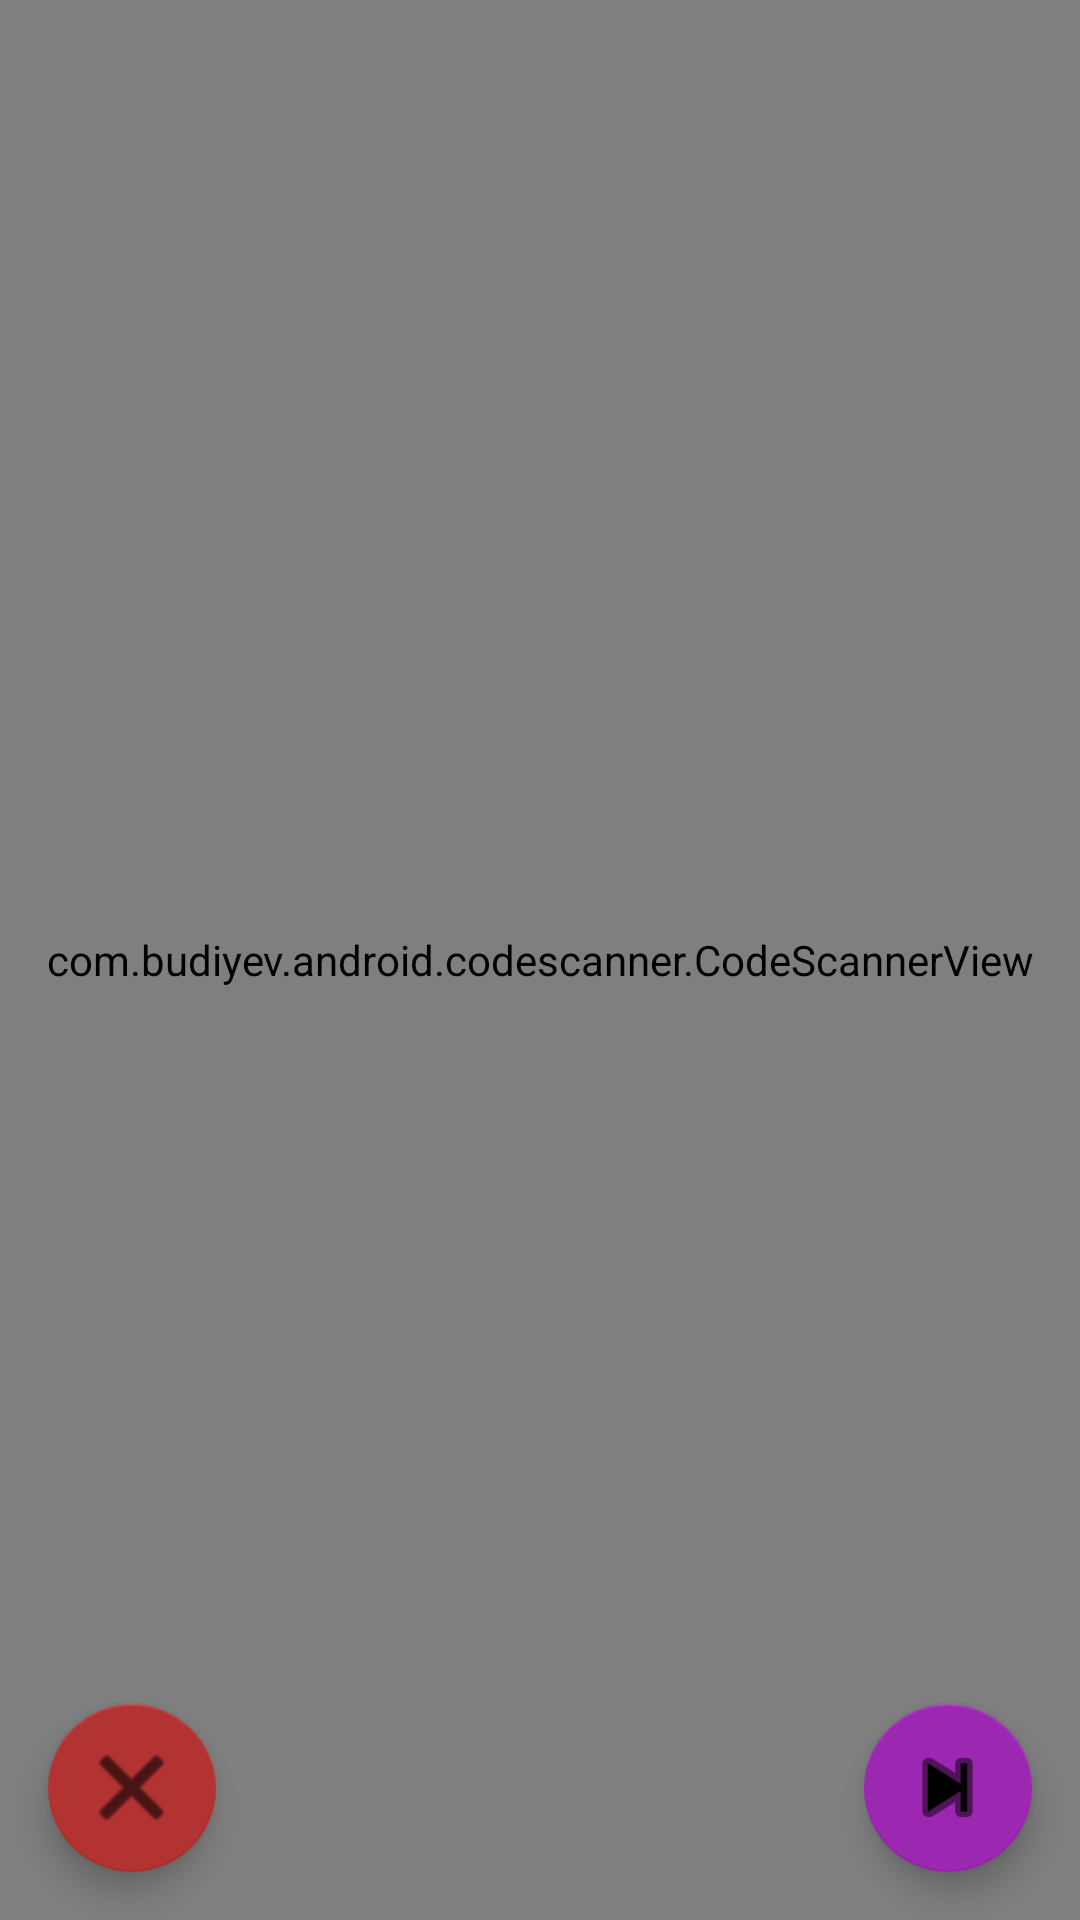

Icons on this 1080px×1920px Android screen, each with its box as detection(x1, y1, x2, y2):
close clear cancel: detection(48, 1704, 216, 1872)
next: detection(864, 1704, 1032, 1872)
